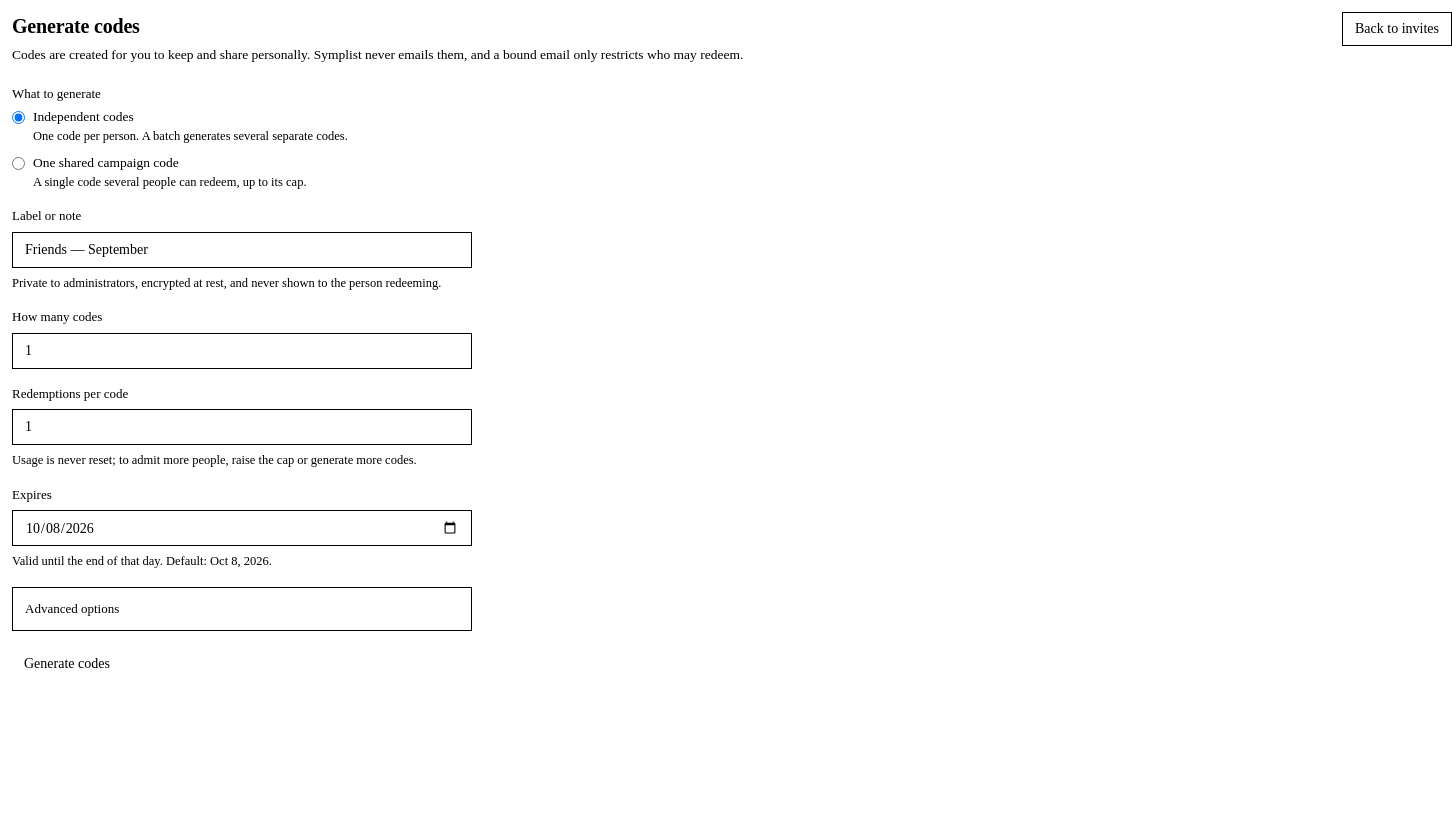
generating invite codes (admin_invite_create.md) › keeps the shared campaign code a separate, explicit choice
Step 1. Click the radio button labelled "One shared campaign code" → (18, 164), box left=12, top=157, right=25, bottom=170
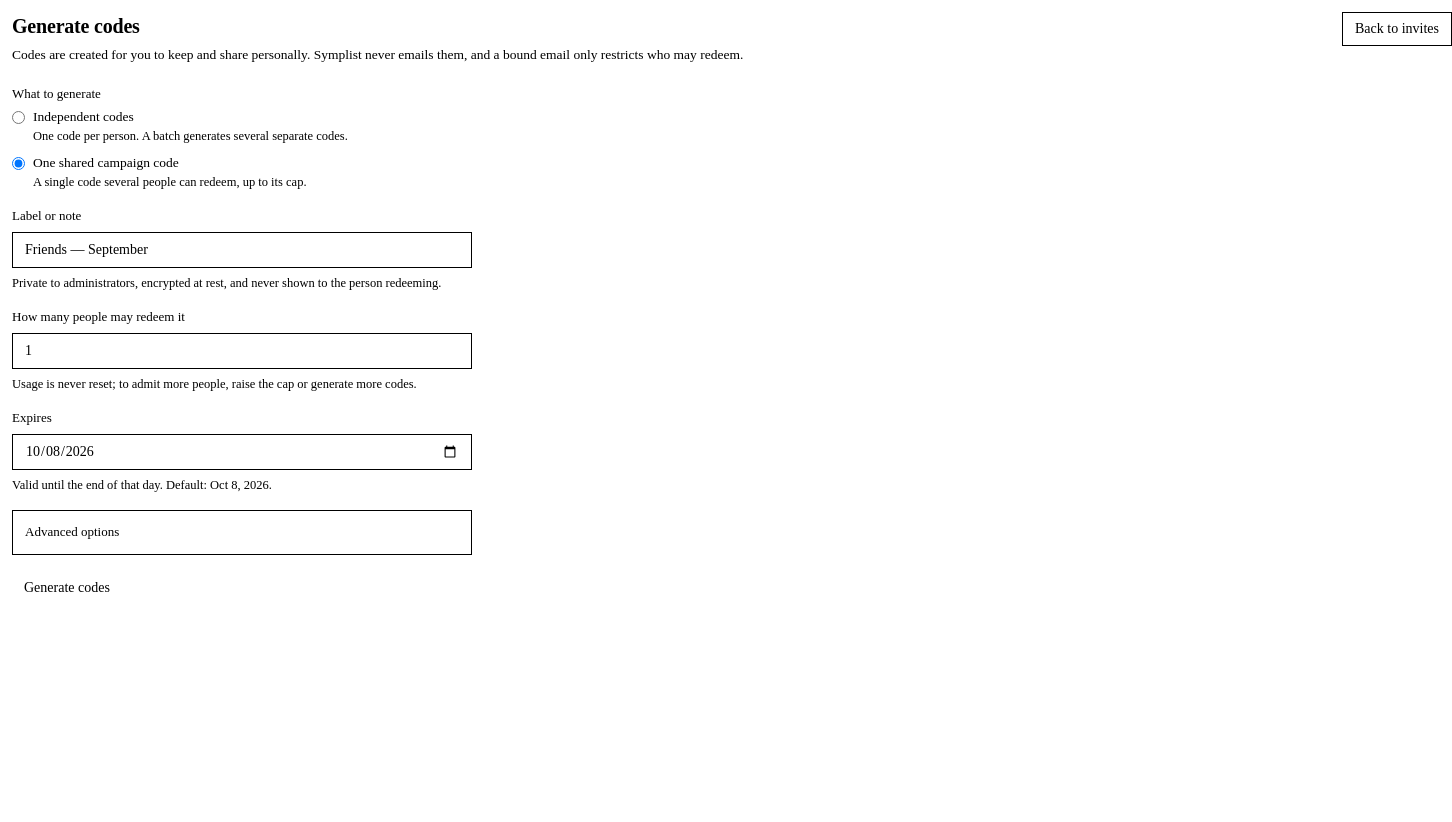
Expected: the number field labelled "How many people may redeem it" is shown, left=12, top=333, right=472, bottom=369
Expected: the label labelled "How many codes" is gone
